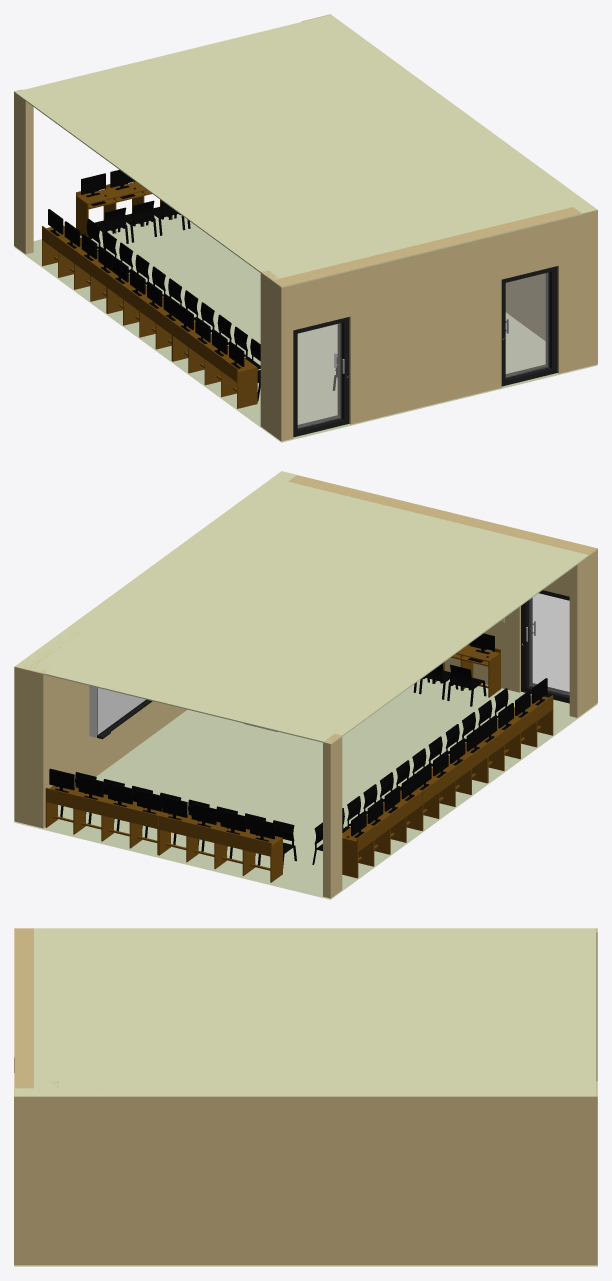
File: CCIS_LabRm5_v1.glb
3 renders of one model, top to bottom at view 1: azimuth 30°, elevation 25°; view 2: azimuth 150°, elevation 25°; view 3: azimuth 270°, elevation 25°, orthographic. The views are drawn at different scales.
Visible parts, largest first — view 1: LabRm4-5 Table.007; view 2: LabRm4-5 Table.007; view 3: LabRm4-5 Table.007.
Part boxes in pixels (x1,y1,x2,y2): LabRm4-5 Table.007: [14, 14, 597, 442]; LabRm4-5 Table.007: [14, 471, 597, 899]; LabRm4-5 Table.007: [14, 928, 597, 1266].
Size of the model in its own units: 2.83 by 1.33 by 4.14.
